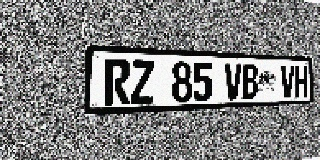5: (193, 62, 212, 102)
8: (172, 61, 192, 102)
B: (242, 64, 258, 100)
H: (295, 65, 307, 97)
R: (104, 59, 130, 105)
V: (225, 63, 242, 100), (281, 65, 294, 98)
Z: (131, 60, 154, 104)
